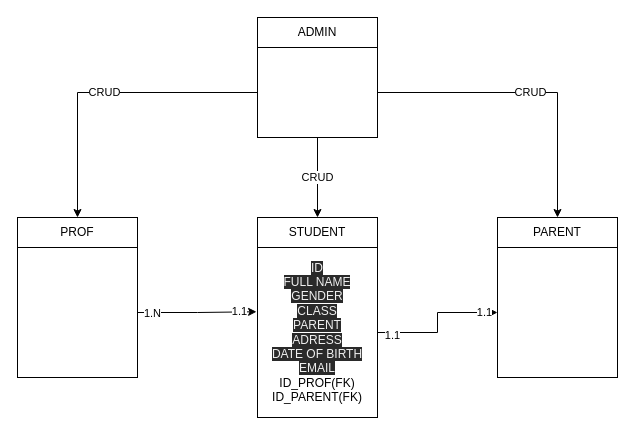
This 635x435 diagram has some shape labels left out. The centre of each missing label's shape, as x and y in pixels:
"ID FULL NAME GENDER JOB ADRESS PHONE ID_STUDENT(FK)" belongs at point (557, 312).
"ID FULL NAME GENDER MATIERE PHONE" belongs at point (77, 312).
"ID NAME EMAIL PASSWORD" belongs at point (317, 92).
